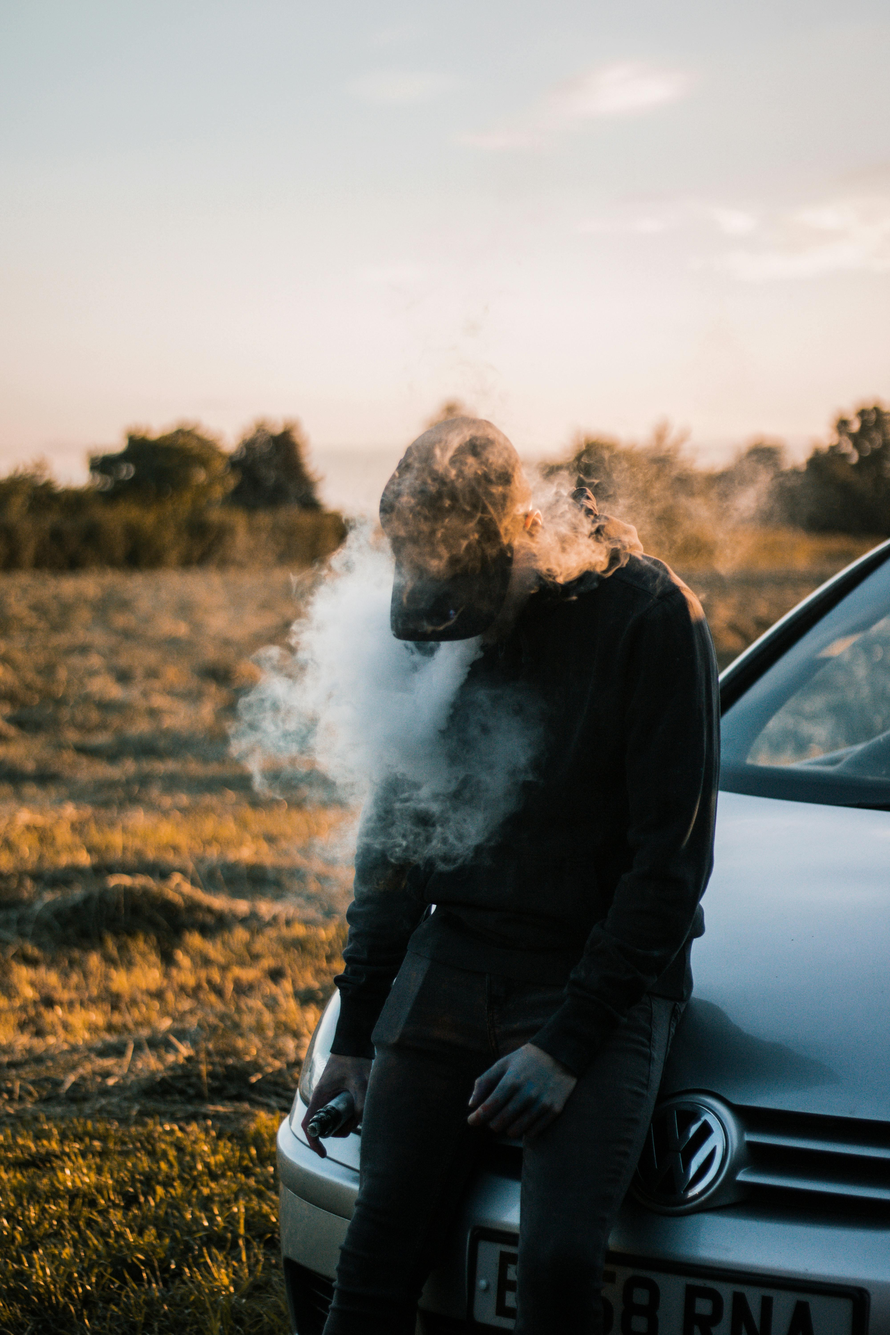smoker: (170, 267, 788, 1020)
